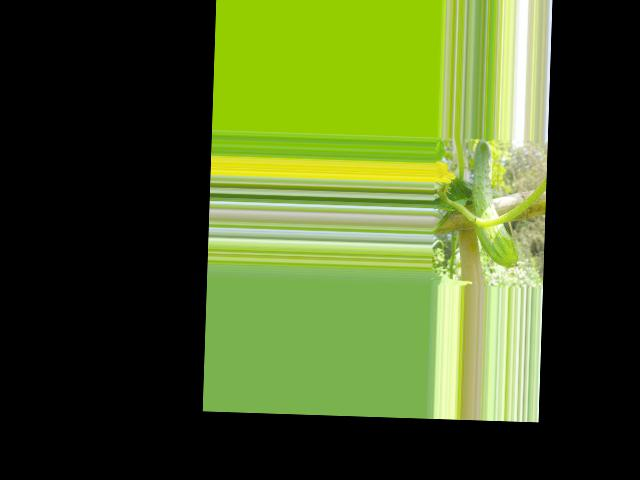cucumber: (470, 138, 521, 268)
